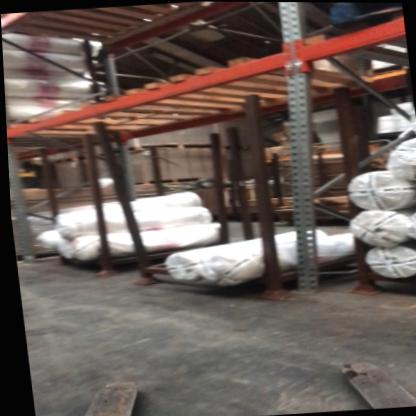vertical_damage: (288, 260, 321, 301), (17, 244, 40, 268)
